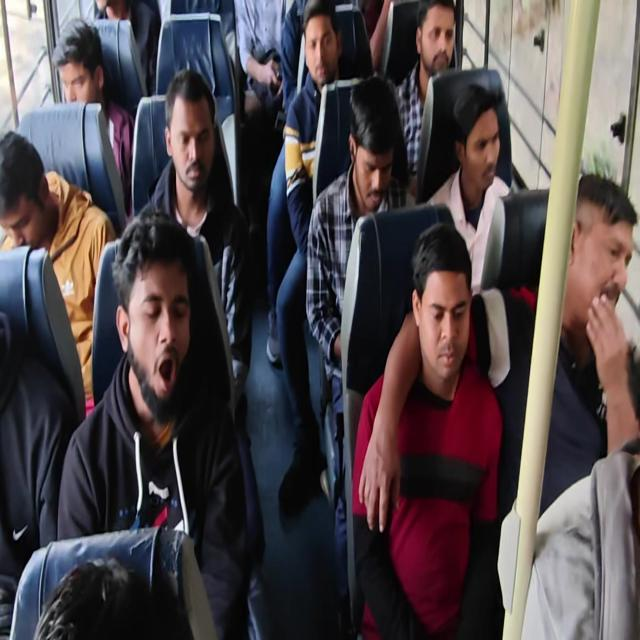person: (114, 207, 198, 419), (25, 541, 197, 640), (570, 158, 636, 347), (413, 222, 472, 386), (163, 59, 225, 204), (1, 120, 54, 255), (50, 18, 112, 115), (347, 80, 391, 214), (454, 82, 504, 192), (301, 1, 340, 88), (415, 0, 462, 72), (90, 0, 116, 20)
